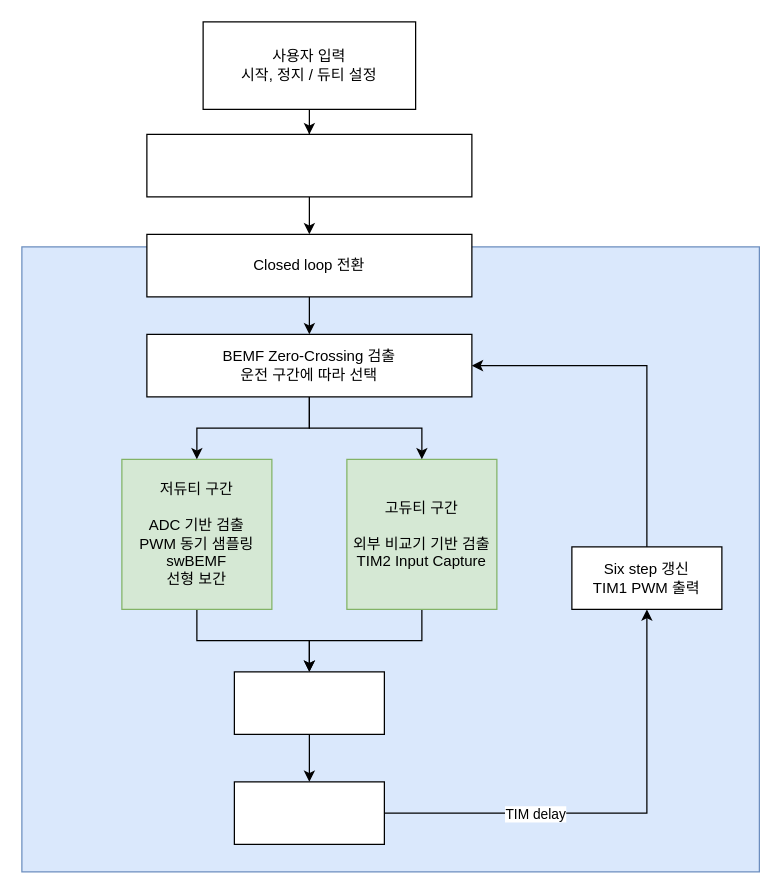
Some shapes in this 781 by 894 pixel diagram are drawn without their labels. The shapes that lost their labels are listed below. From the top down, each one's centre as x and y in pixels, then its label:
At (309,165): "Six step 정렬, Open loop 기동".
At (308,702): "다음 정류 시점 계산".
At (308,812): "TIM3 정류 예약".
